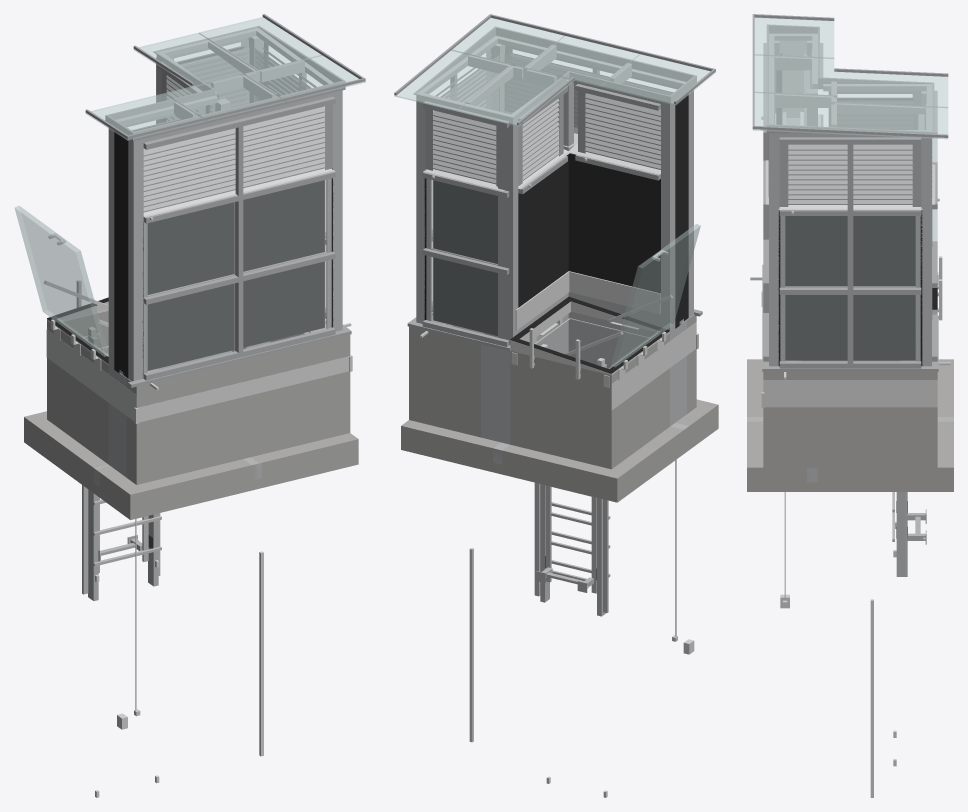
Rendered from thap_ong_khoi.glb.
3 renders of one model, left to right at view 1: azimuth 30°, elevation 25°; view 2: azimuth 150°, elevation 25°; view 3: azimuth 270°, elevation 25°, orthographic. The views are drawn at different scales.
Parts seen in each view (by area): view 1: Tấm hấp thụ Tây Bắc, Gờ bê tông Tây Bắc, Giằng vòng BTCT đỉnh giếng, Lam tầng 1 Tây Bắc, Kính Tây Bắc ô 1.2, Kính Tây Bắc ô 2.2, Kính Tây Bắc ô 1.1, Nắp — cánh kính dán ba lớp trong khung nhôm (hình: mở 100°), Kính Tây Bắc ô 2.1, Gờ bê tông ô nắp — Đông Bắc, Cột thép góc 1, Tấm nhôm đen Đông Bắc (+36 smaller); view 2: Giằng vòng BTCT đỉnh giếng, Tấm nhôm đen Đông Nam (lõm, trên lối lên mái), Gờ bê tông ô nắp — Đông Nam (sau), Tấm hấp thụ Đông Nam, Gờ bê tông Đông Nam, Tấm nhôm đen Đông Bắc (lõm, trên lối lên mái), Nắp — cánh kính dán ba lớp trong khung nhôm (hình: mở 100°), Kính Đông Nam ô 1.2, Kính Đông Nam ô 1.1, Lam tầng 1 Đông Nam (lõm, trên lối lên mái), Lam tầng 1 Đông Nam, Mũ kính ô Tây Nam – sau 2.1 (+42 smaller); view 3: Tấm hấp thụ Tây Nam, Gờ bê tông Tây Nam, Giằng vòng BTCT đỉnh giếng, Lam tầng 1 Tây Nam, Tôn diềm chân gờ — cạnh đứng Tây Nam, Kính Tây Nam ô 2.2, Kính Tây Nam ô 1.2, Kính Tây Nam ô 1.1, Kính Tây Nam ô 2.1, Mũ kính ô Tây Nam – sau 1.1, Mũ kính ô Tây Nam – sau 2.1, Mũ kính ô Tây Bắc – trước 2.1 (+36 smaller).
Part boxes in pixels (x1,y1,x2,y2): Tấm hấp thụ Tây Bắc: (147,180,324,370); Gờ bê tông Tây Bắc: (131,337,340,484); Giằng vòng BTCT đỉnh giếng: (24,411,358,519); Lam tầng 1 Tây Bắc: (143,106,325,212); Kính Tây Bắc ô 1.2: (144,202,235,297); Kính Tây Bắc ô 2.2: (243,179,331,272); Kính Tây Bắc ô 1.1: (144,283,235,372); Nắp — cánh kính dán ba lớp trong khung nhôm (hình: mở 100°): (14,206,108,356); Kính Tây Bắc ô 2.1: (243,260,331,348); Gờ bê tông ô nắp — Đông Bắc: (52,322,108,464); Cột thép góc 1: (128,141,143,381); Tấm nhôm đen Đông Bắc: (114,131,128,375); Giằng vòng BTCT đỉnh giếng: (401,399,718,502); Tấm nhôm đen Đông Nam (lõm, trên lối lên mái): (568,153,660,293); Gờ bê tông ô nắp — Đông Nam (sau): (510,351,616,469); Tấm hấp thụ Đông Nam: (433,180,497,335); Gờ bê tông Đông Nam: (409,326,480,437); Tấm nhôm đen Đông Bắc (lõm, trên lối lên mái): (518,154,568,307); Nắp — cánh kính dán ba lớp trong khung nhôm (hình: mở 100°): (611,224,700,367); Kính Đông Nam ô 1.2: (426,179,497,265); Kính Đông Nam ô 1.1: (426,256,497,337); Lam tầng 1 Đông Nam (lõm, trên lối lên mái): (584,93,660,169); Lam tầng 1 Đông Nam: (432,110,497,184); Mũ kính ô Tây Nam – sau 2.1: (394,49,511,111); Tấm hấp thụ Tây Nam: (785,216,915,360); Gờ bê tông Tây Nam: (763,372,926,467); Giằng vòng BTCT đỉnh giếng: (747,359,953,491); Lam tầng 1 Tây Nam: (787,144,913,204); Tôn diềm chân gờ — cạnh đứng Tây Nam: (763,380,937,407); Kính Tây Nam ô 2.2: (853,216,920,287); Kính Tây Nam ô 1.2: (780,216,847,287); Kính Tây Nam ô 1.1: (780,295,847,360); Kính Tây Nam ô 2.1: (853,295,920,360); Mũ kính ô Tây Nam – sau 1.1: (834,71,948,107); Mũ kính ô Tây Nam – sau 2.1: (834,102,948,139); Mũ kính ô Tây Bắc – trước 2.1: (754,54,834,95).
Bounding box in the file's own units: 2.65 × 7.13 × 1.9.
